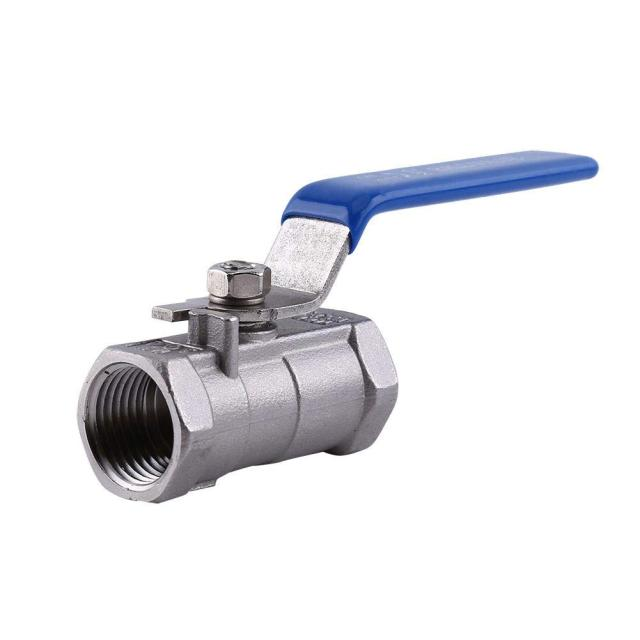Lever Handle Valve Threaded: (66, 127, 612, 350)
